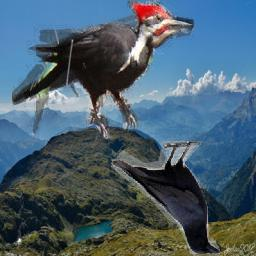Crow: (112, 142, 221, 255)
Woodpecker: (12, 1, 194, 142)
